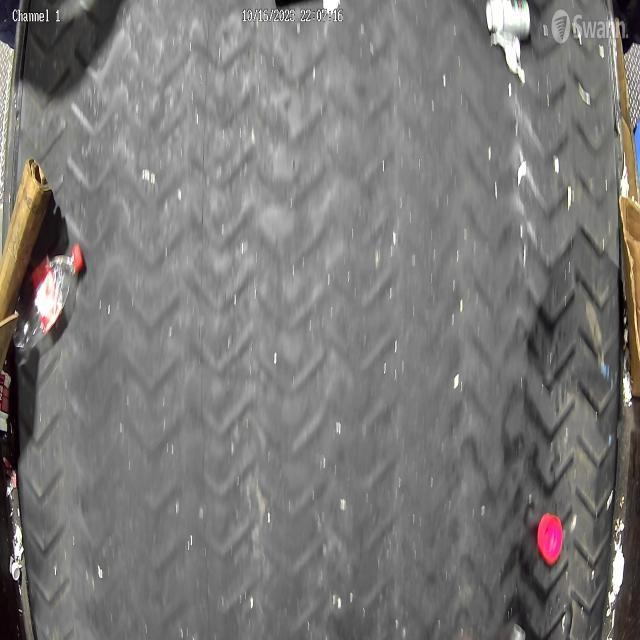plastic_bottle: (14, 244, 84, 356)
